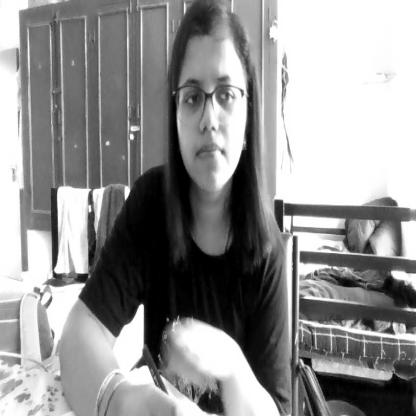Normal: (171, 2, 252, 200)
